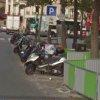Motorcycle: (15, 31, 66, 83)
